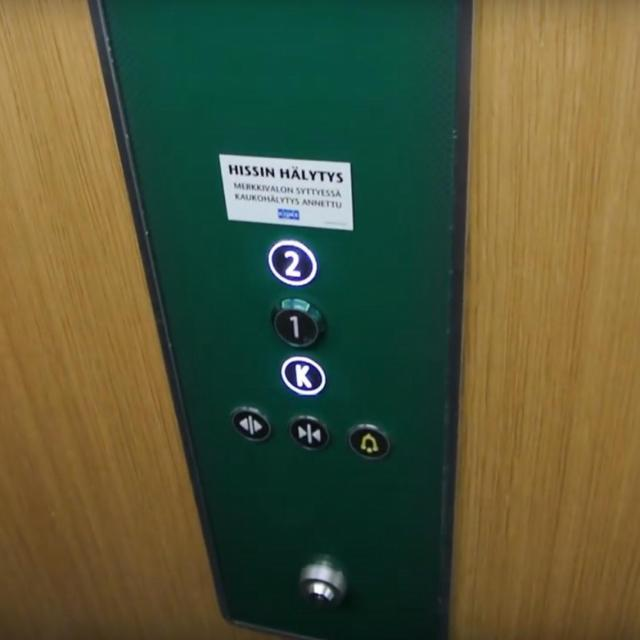1: (268, 296, 324, 349)
2: (266, 240, 316, 288)
K: (279, 353, 326, 397)
alarm: (346, 422, 390, 458)
close: (286, 413, 330, 452)
keyhole: (296, 556, 347, 607)
open: (228, 405, 271, 442)
